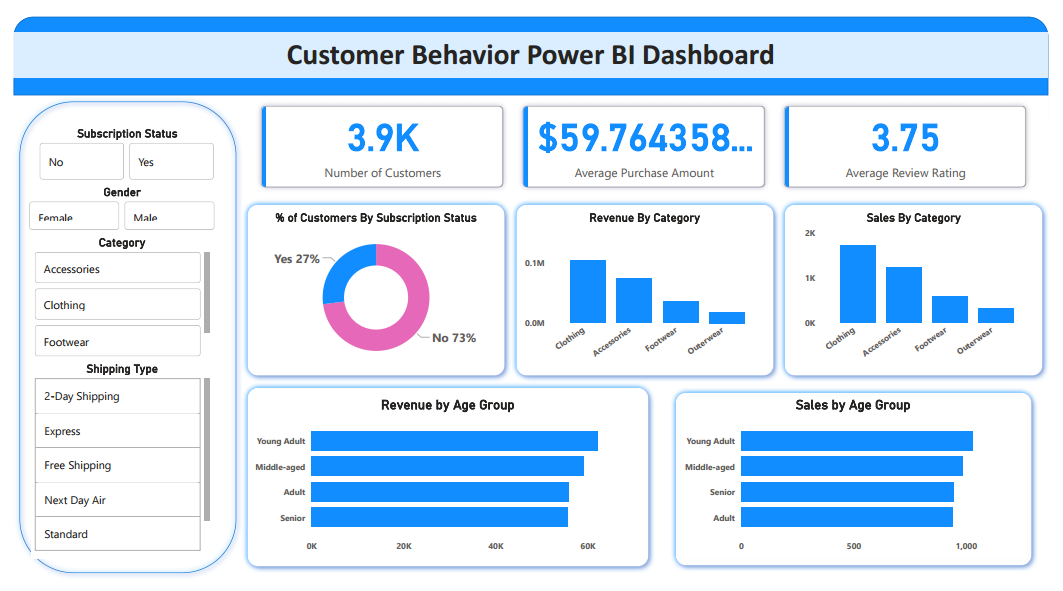

Layout of this report page (visuals, bound fields, positions):
{"tool":"powerbi","page":{"name":"Page 1","canvas":[1500,820],"ordinal":0},"visuals":[{"type":"cardVisual","fields":{"Data":["public customer.Number of Customers","public customer.Average Purchase Amount","public customer.Average Review Rating"]},"box":[344.5,120.1,1139.8,149.6],"z":0},{"type":"shape","box":[0,5.9,1500,114.2],"z":1000},{"type":"textbox","box":[0,27.6,1500,66.9],"z":2000},{"type":"shape","box":[330.7,269.7,389.8,265.7],"z":3000},{"type":"donutChart","title":"% of Customers By Subscription Status","fields":{"Category":["public customer.subscription_status"],"Y":["CountNonNull(public customer.customer_id)"]},"box":[344.5,287.4,362.2,232.3],"z":4000},{"type":"shape","box":[330.7,535.4,598.4,275.6],"z":5000},{"type":"shape","box":[720.5,269.7,389.8,265.7],"z":6000},{"type":"shape","box":[1110.2,269.7,389.8,265.7],"z":7000},{"type":"clusteredColumnChart","title":"Revenue By Category","fields":{"Y":["Sum(public customer.purchase_amount)"],"Category":["public customer.category"]},"box":[736.2,287.4,358.3,232.3],"z":8000},{"type":"clusteredColumnChart","title":"Sales By Category","fields":{"Y":["CountNonNull(public customer.customer_id)"],"Category":["public customer.category"]},"box":[1126,287.4,358.3,232.3],"z":9000},{"type":"shape","box":[0,120.1,330.7,700.8],"z":10000},{"type":"advancedSlicerVisual","title":"Shipping Type","fields":{"Values":["public customer.shipping_type"]},"box":[25.6,505.9,263.8,285.4],"z":11000},{"type":"advancedSlicerVisual","title":"Subscription Status","fields":{"Values":["public customer.subscription_status"]},"box":[33.5,165.4,263.8,84.6],"z":12000},{"type":"advancedSlicerVisual","fields":{"Values":["public customer.gender"]},"box":[17.7,250,279.5,72.8],"z":13000},{"type":"advancedSlicerVisual","title":"Category","fields":{"Values":["public customer.category"]},"box":[25.6,322.8,263.8,183.1],"z":14000},{"type":"clusteredBarChart","title":"Revenue by Age Group","fields":{"Y":["Sum(public customer.purchase_amount)"],"Category":["public customer.age_group"]},"box":[344.5,557.1,570.9,234.3],"z":15000},{"type":"shape","box":[950.8,543.3,533.5,265.7],"z":16000},{"type":"clusteredBarChart","title":"Sales by Age Group","fields":{"Y":["CountNonNull(public customer.customer_id)"],"Category":["public customer.age_group"]},"box":[966.5,557.1,500,234.3],"z":16001}]}

Visuals, with their boxes in screenshot pixels (x1, y1, x2, y2), scaled from the page's 1500x820 canvas onto the 1063x591 screenshot:
cardVisual - public customer.Number of Customers x public customer.Average Purchase Amount: rect(244, 87, 1052, 194)
shape: rect(0, 4, 1062, 87)
textbox: rect(0, 20, 1062, 68)
shape: rect(234, 194, 511, 386)
"% of Customers By Subscription Status" donutChart: rect(244, 207, 501, 375)
shape: rect(234, 386, 658, 585)
shape: rect(511, 194, 787, 386)
shape: rect(787, 194, 1062, 386)
"Revenue By Category" clusteredColumnChart: rect(522, 207, 776, 375)
"Sales By Category" clusteredColumnChart: rect(798, 207, 1052, 375)
shape: rect(0, 87, 234, 590)
"Shipping Type" advancedSlicerVisual: rect(18, 365, 205, 570)
"Subscription Status" advancedSlicerVisual: rect(24, 119, 211, 180)
advancedSlicerVisual - public customer.gender: rect(13, 180, 211, 233)
"Category" advancedSlicerVisual: rect(18, 233, 205, 365)
"Revenue by Age Group" clusteredBarChart: rect(244, 402, 649, 570)
shape: rect(674, 392, 1052, 583)
"Sales by Age Group" clusteredBarChart: rect(685, 402, 1039, 570)
